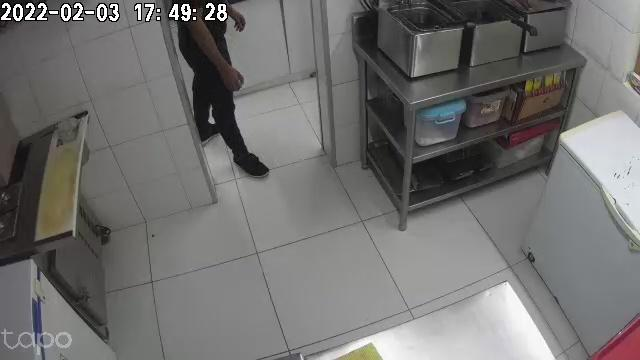no_gloves: (221, 64, 244, 94), (229, 8, 246, 33)
